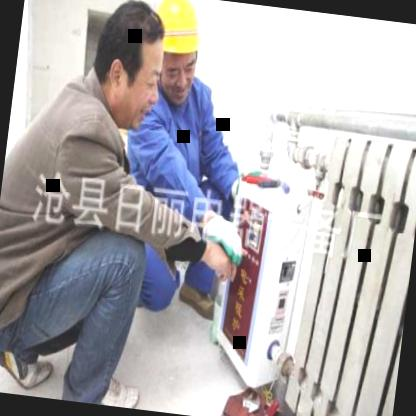head: (84, 0, 170, 133)
helmet: (146, 0, 208, 111)
